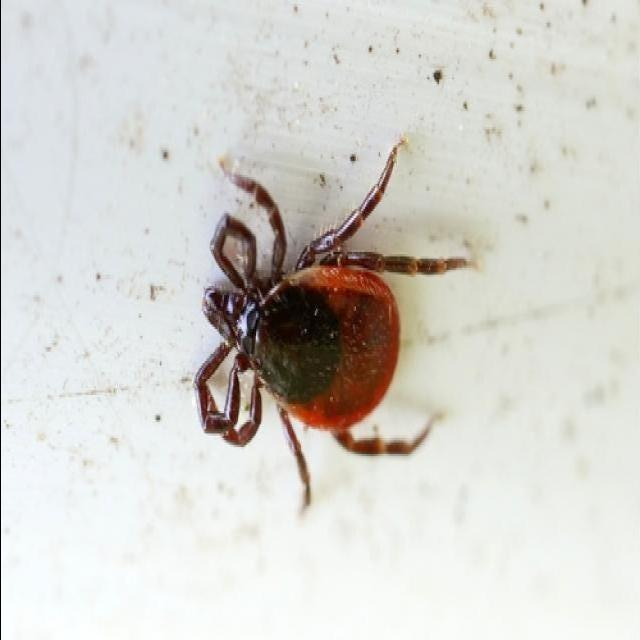Ixodes Ricinus-F: (193, 143, 467, 506)
